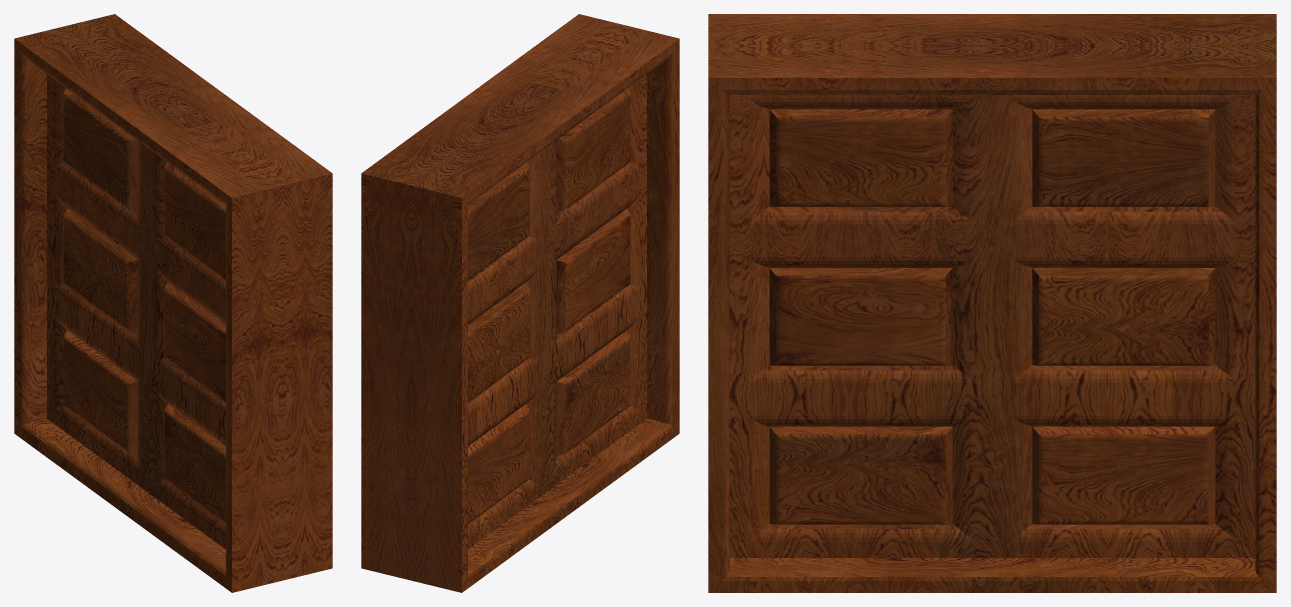
File: Bar01_Ventana.fbx
3 views of the same model, side by side, from view 1: azimuth 30°, elevation 25°; view 2: azimuth 150°, elevation 25°; view 3: azimuth 270°, elevation 25° (orthographic). The views are drawn at different scales.
Visible parts, largest first — view 1: Ventana02; view 2: Ventana02; view 3: Ventana02.
Boxes of the visible parts, x1=… form: Ventana02: x1=14, y1=14, x2=332, y2=592; Ventana02: x1=361, y1=14, x2=679, y2=592; Ventana02: x1=708, y1=14, x2=1276, y2=592.
Bounding box in the file's own units: 26.71 × 100 × 100.
